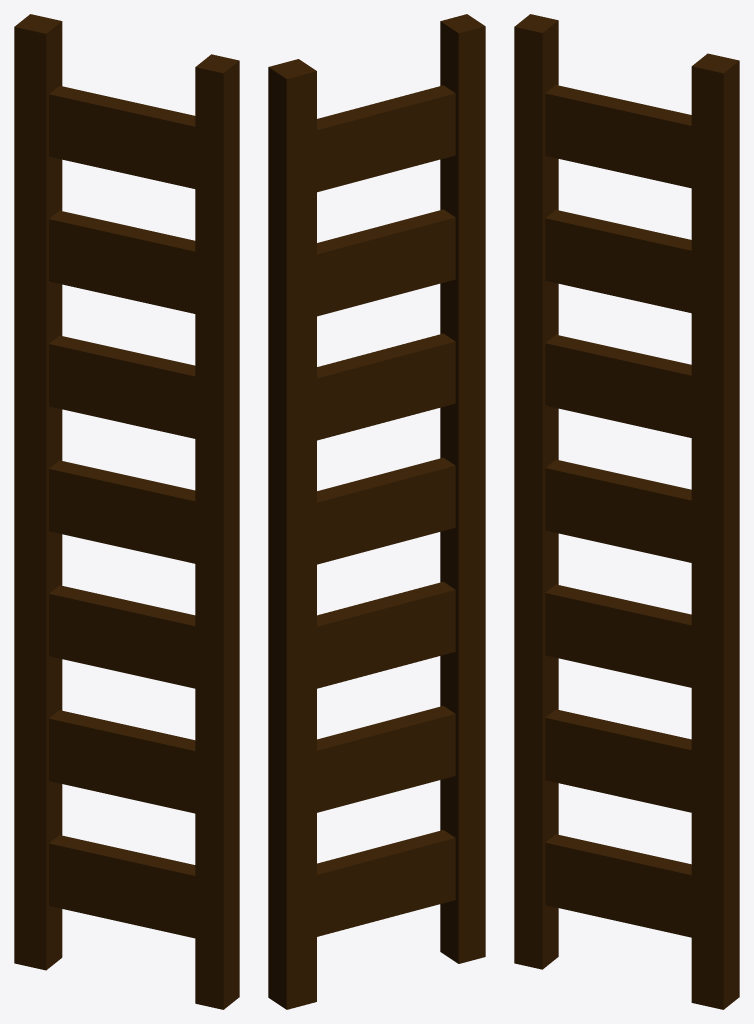
The model's file is Stair.glb.
The picture shows the model from 3 angles, left to right: view 1: azimuth 90°, elevation 25°; view 2: azimuth 150°, elevation 25°; view 3: azimuth 270°, elevation 25°; orthographic projection.
Parts seen in each view (by area): view 1: Escalera; view 2: Escalera; view 3: Escalera.
Boxes of the visible parts, x1,y1,x2,y2 form: Escalera: (14,14,239,1009); Escalera: (268,14,485,1009); Escalera: (514,14,739,1009).
Bounding box in the file's own units: 0.4609 × 3.39 × 0.7386.
